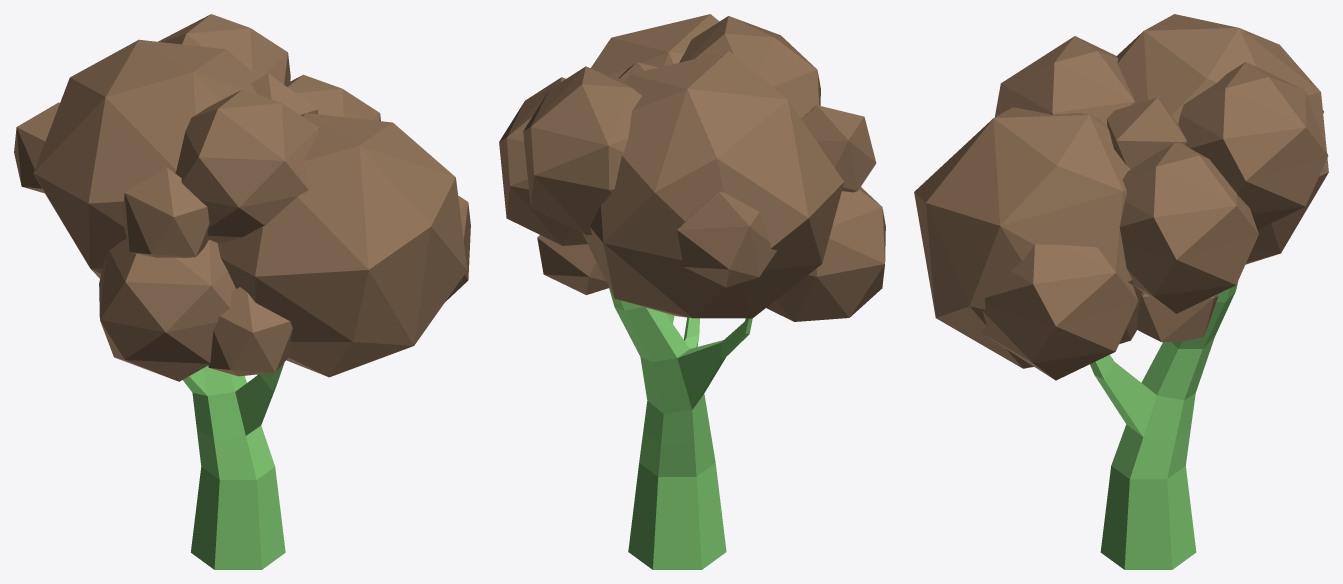
File: bubble3.fbx
3 views of the same model, side by side, from view 1: azimuth 30°, elevation 25°; view 2: azimuth 150°, elevation 25°; view 3: azimuth 270°, elevation 25° (orthographic). The views are drawn at different scales.
Parts seen in each view (by area): view 1: bubble 3; view 2: bubble 3; view 3: bubble 3.
Boxes of the visible parts, left/top/right/bottom form: bubble 3: left=14, top=14, right=470, bottom=569; bubble 3: left=499, top=14, right=885, bottom=569; bubble 3: left=914, top=14, right=1328, bottom=569.
Size of the model in its own units: 515 by 682 by 515.
